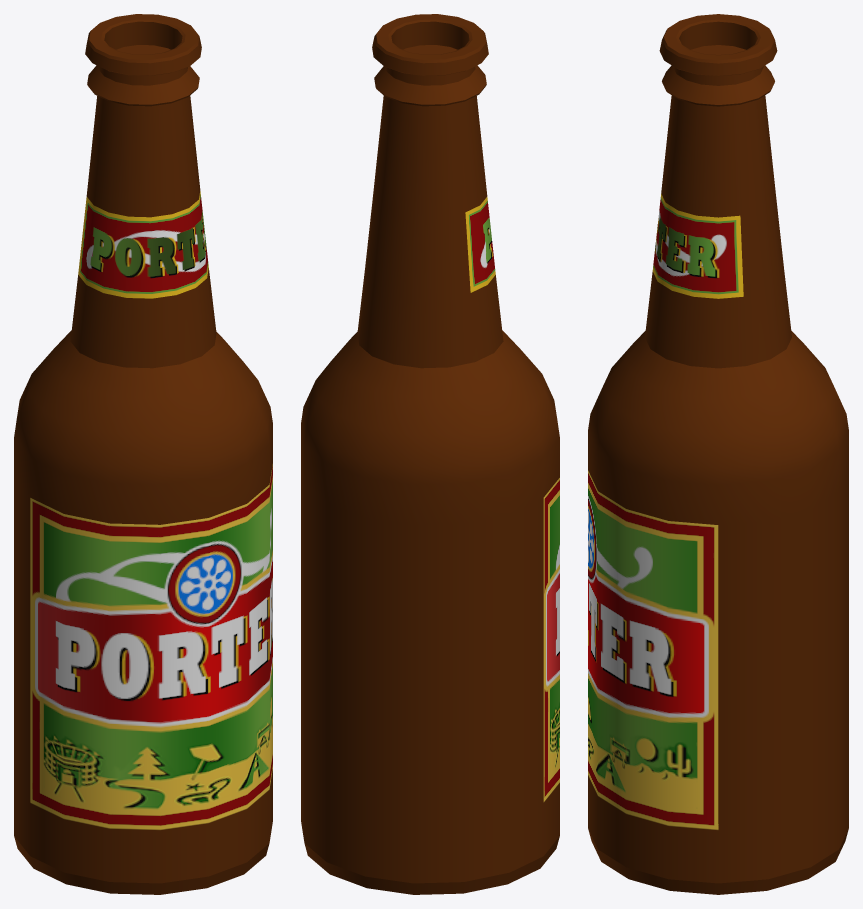
The model's file is ping_03.FBX.
The picture shows the model from 3 angles, left to right: view 1: azimuth 30°, elevation 25°; view 2: azimuth 150°, elevation 25°; view 3: azimuth 270°, elevation 25°; orthographic projection.
Parts seen in each view (by area): view 1: ping_03; view 2: ping_03; view 3: ping_03.
Part boxes in pixels (x1=…): ping_03: x1=14, y1=14, x2=272, y2=894; ping_03: x1=301, y1=14, x2=559, y2=894; ping_03: x1=588, y1=14, x2=848, y2=894.
Bounding box in the file's own units: 394 × 1340 × 394.
Materials: 1 (1 with a texture image).
